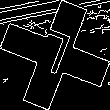L_S: (32, 26, 78, 84)
